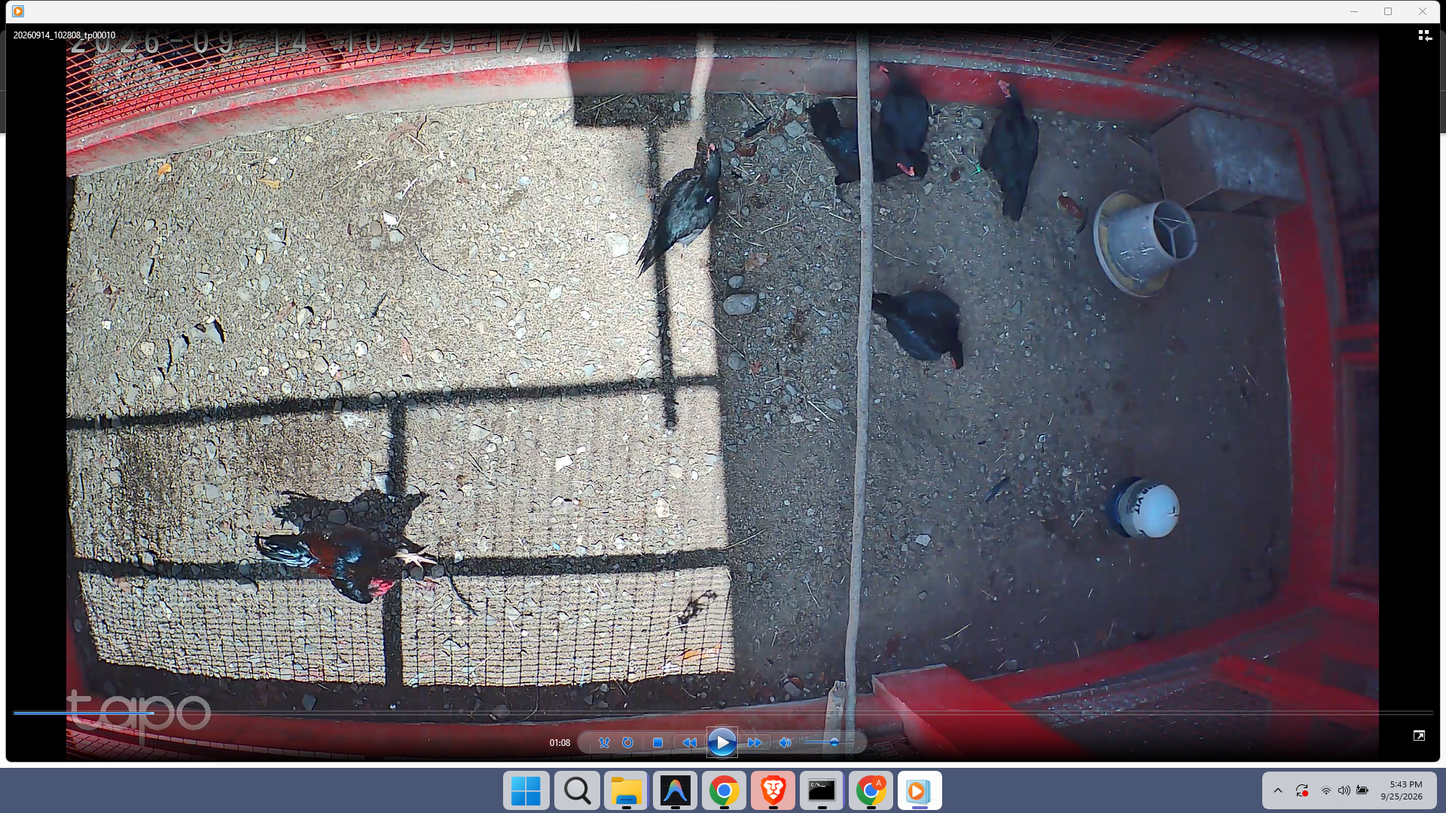Chicken: (804, 98, 917, 213), (636, 136, 723, 276), (967, 76, 1039, 223), (866, 288, 966, 373), (873, 59, 928, 159)
Drinker: (1106, 475, 1185, 538)
Feeder: (1093, 188, 1197, 297)
Rooster: (250, 528, 439, 606)
